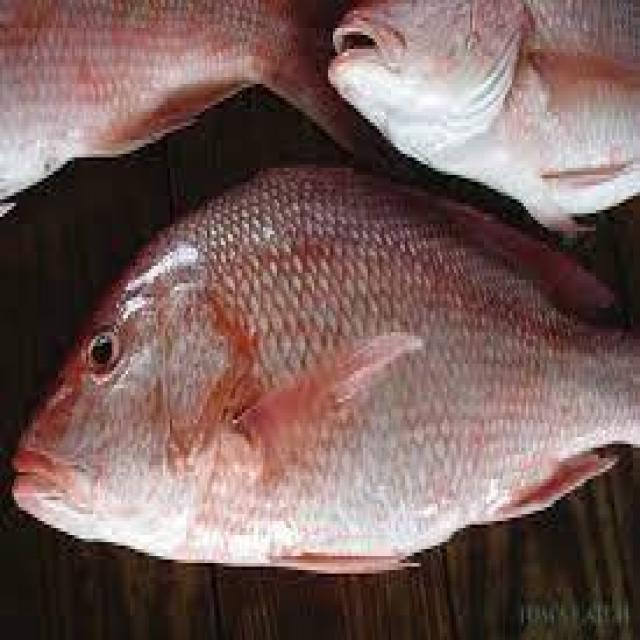northern-red-snapper: (25, 152, 640, 603), (1, 2, 392, 219), (328, 1, 640, 262)
